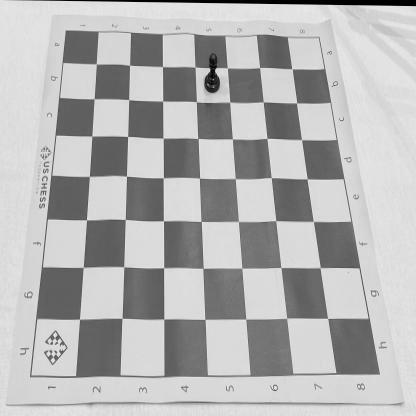black-pawn: (204, 53, 221, 93)
